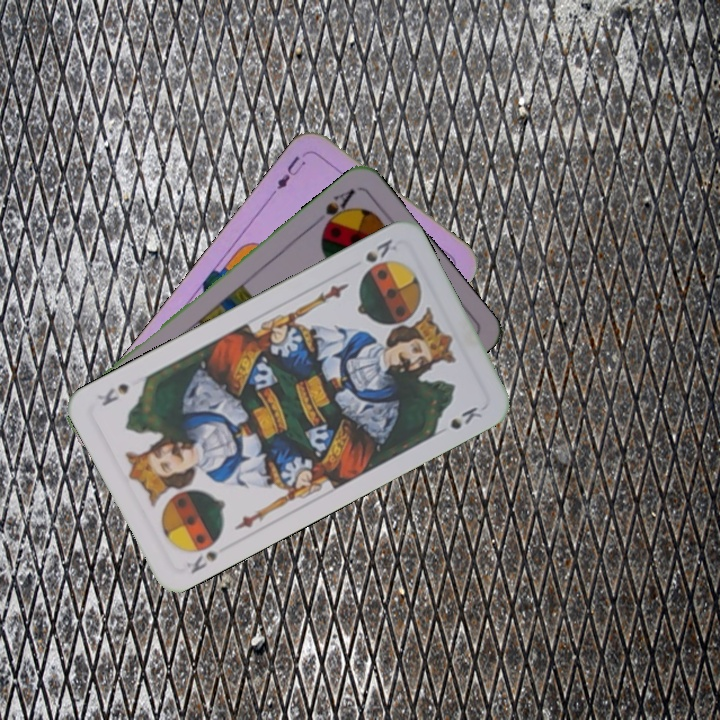EU: (272, 151, 309, 193)
SA: (317, 184, 358, 235)
SK: (361, 234, 400, 266), (182, 547, 221, 576)
